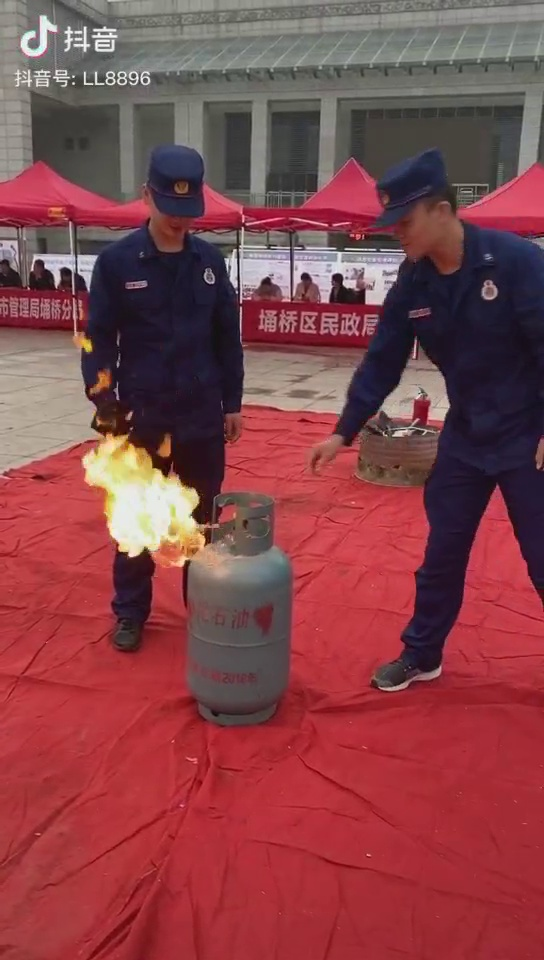fire: (72, 393, 203, 574)
